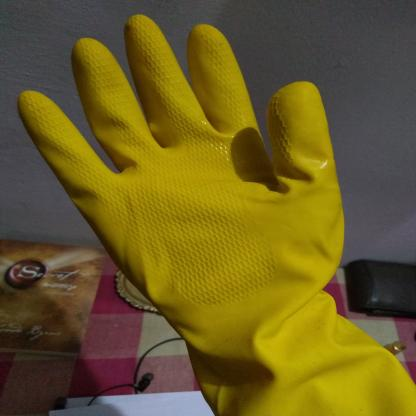gloved_hand: (16, 11, 413, 414)
